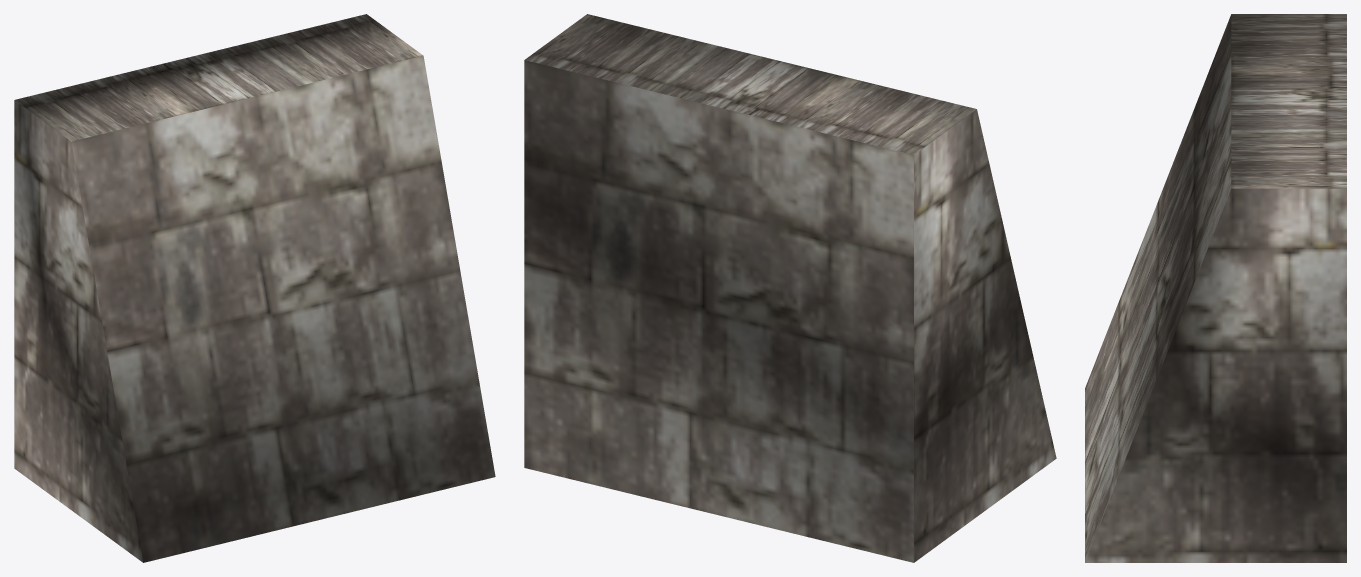
File: foundation_tiny_angled.glb
The picture shows the model from 3 angles, left to right: view 1: azimuth 30°, elevation 25°; view 2: azimuth 150°, elevation 25°; view 3: azimuth 270°, elevation 25°; orthographic projection. The views are drawn at different scales.
Parts seen in each view (by area): view 1: foundation_tiny_angled; view 2: foundation_tiny_angled; view 3: foundation_tiny_angled.
Part boxes in pixels (left/top/right/bottom): foundation_tiny_angled: left=14, top=14, right=495, bottom=562; foundation_tiny_angled: left=524, top=14, right=1056, bottom=562; foundation_tiny_angled: left=1085, top=14, right=1346, bottom=562.
Size of the model in its own units: 4 by 4 by 2.54.
1 material, 1 textured.
